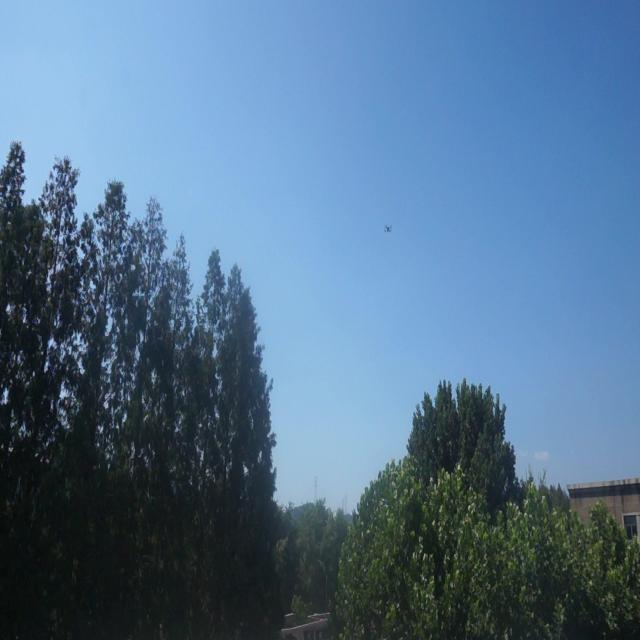drone: (382, 218, 395, 237)
